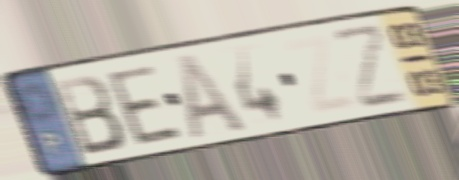4: (236, 42, 287, 127)
A: (174, 49, 252, 144)
B: (50, 71, 127, 159)
E: (103, 61, 186, 148)
Z: (329, 18, 412, 113), (279, 30, 363, 118)
